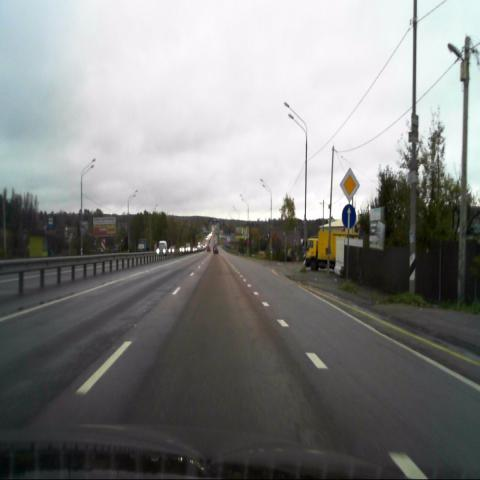2_1: (339, 167, 360, 201)
4_1_1: (342, 205, 356, 228)
